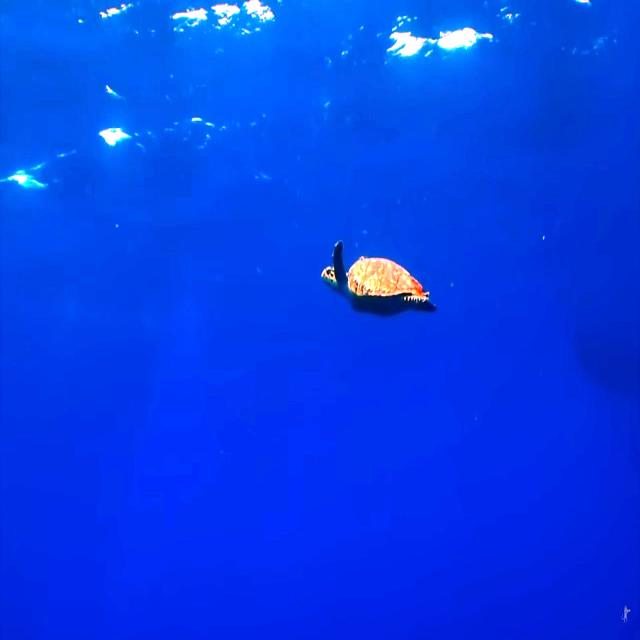Sea turtle: (321, 242, 439, 320)
